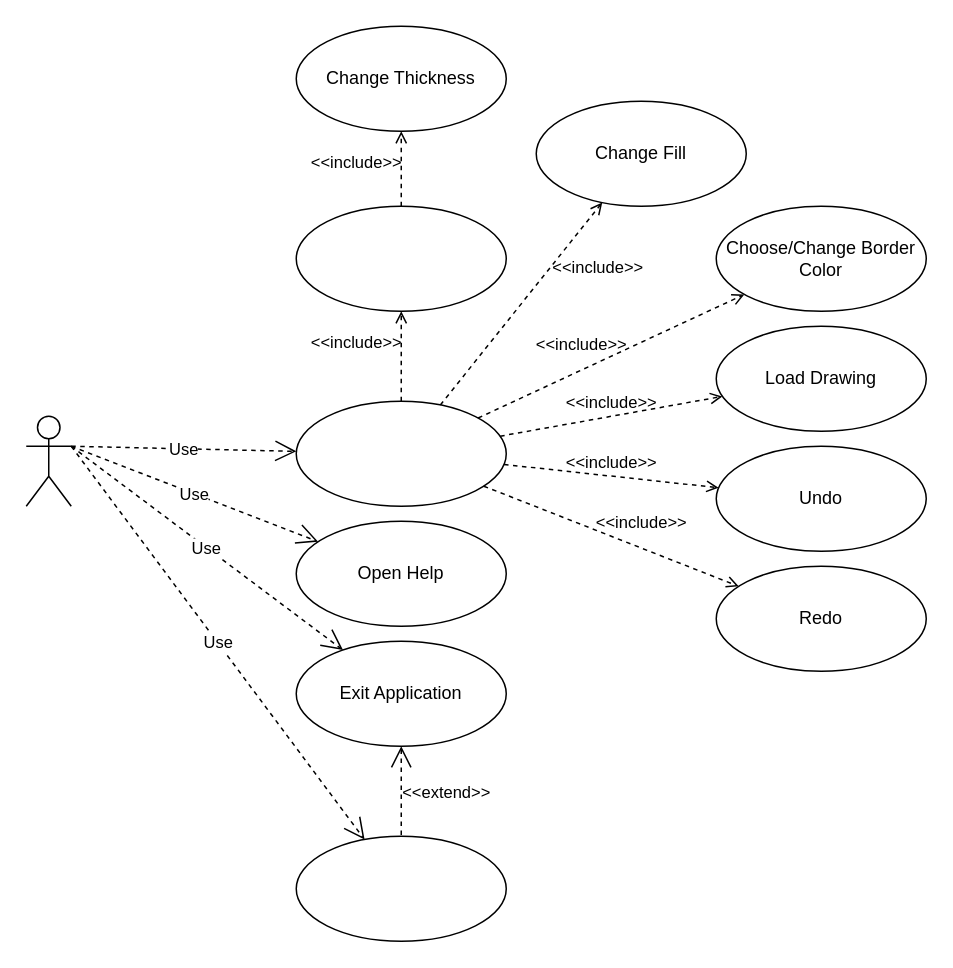
This 953x968 diagram has some shape labels left out. The centre of each missing label's shape, as x and y in pixels:
"Choose Painting Tool" goes at (x=400, y=258).
"Draw" goes at (x=400, y=453).
"Save Drawing" goes at (x=400, y=888).
"User" goes at (x=48, y=460).
